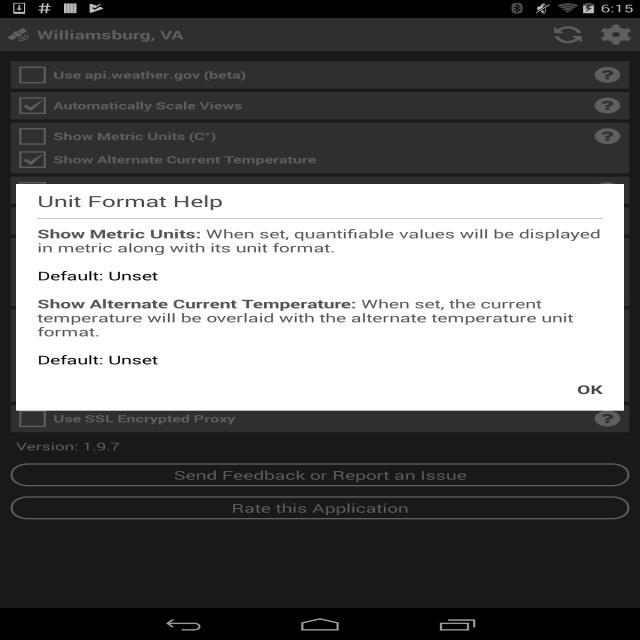Button: (11, 496, 629, 520), (11, 464, 629, 486), (577, 381, 603, 397)
CheckBox: (19, 97, 621, 114), (19, 128, 621, 145), (19, 151, 621, 168), (19, 182, 621, 199), (19, 356, 621, 373), (19, 410, 621, 427), (19, 67, 621, 83), (19, 213, 621, 229), (19, 380, 621, 396)
ImageView: (0, 52, 57, 90), (0, 480, 57, 518), (356, 152, 416, 188), (0, 519, 57, 556), (0, 558, 57, 594), (0, 596, 57, 632), (587, 485, 632, 513), (187, 342, 224, 366), (549, 23, 587, 46), (597, 23, 635, 46), (380, 343, 417, 365), (467, 292, 501, 314), (594, 97, 621, 114), (594, 128, 621, 145), (594, 182, 621, 199), (594, 243, 621, 260), (594, 410, 621, 427), (594, 67, 621, 83), (594, 213, 621, 229), (594, 315, 621, 331), (7, 28, 29, 41)
RadioButton: (19, 333, 170, 350), (470, 333, 621, 350), (170, 333, 320, 350), (320, 333, 470, 350)
SeekBar: (30, 274, 610, 294)
TextView: (37, 225, 603, 368), (11, 398, 629, 431), (224, 94, 415, 198), (28, 18, 550, 51), (4, 198, 636, 218), (37, 191, 603, 211), (54, 562, 427, 589), (19, 314, 621, 330), (54, 58, 308, 84), (54, 486, 297, 512), (54, 601, 293, 627), (54, 524, 254, 551), (19, 243, 317, 258), (252, 434, 499, 452), (254, 455, 501, 473), (290, 365, 507, 383), (133, 365, 280, 383), (300, 271, 455, 288), (426, 129, 502, 162), (300, 294, 447, 311), (10, 432, 120, 453), (138, 455, 254, 473), (152, 129, 214, 162), (140, 434, 252, 452), (300, 315, 403, 333), (89, 250, 198, 267), (300, 229, 405, 246), (89, 294, 194, 311), (88, 229, 184, 246), (300, 250, 396, 267), (464, 315, 551, 333), (88, 271, 178, 288), (89, 315, 174, 333), (206, 315, 287, 333), (206, 250, 291, 267), (464, 271, 545, 288), (390, 94, 412, 150), (206, 294, 275, 311), (206, 271, 269, 288), (206, 229, 250, 246), (367, 160, 404, 180), (464, 250, 505, 267), (464, 229, 501, 246)
